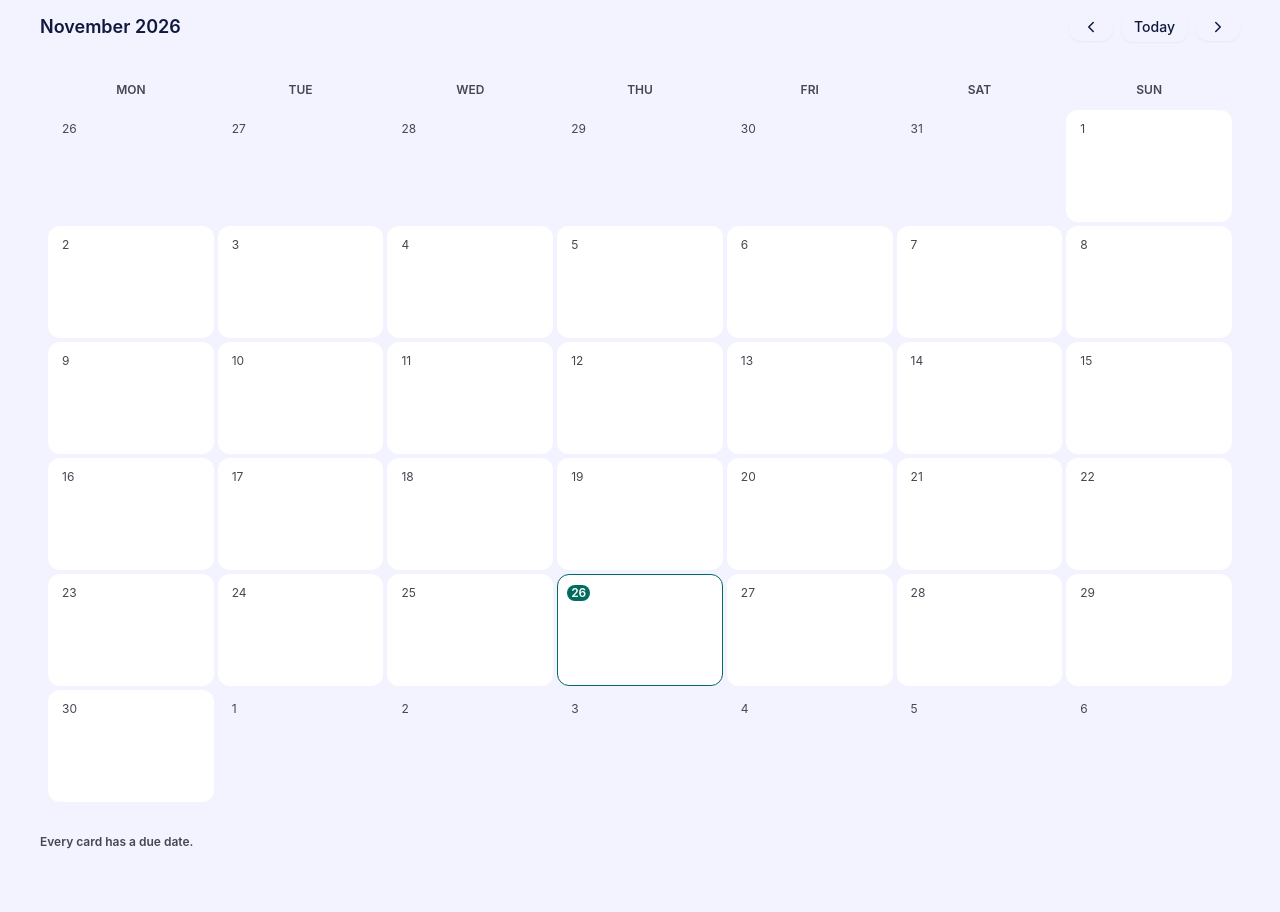
it: Calendar view (VIEW-03, VIEW-04) › moves between months and back to today
The image size is (1280, 912).
Click the button named "Next month": point(1218, 27) [1196,13,1240,41]
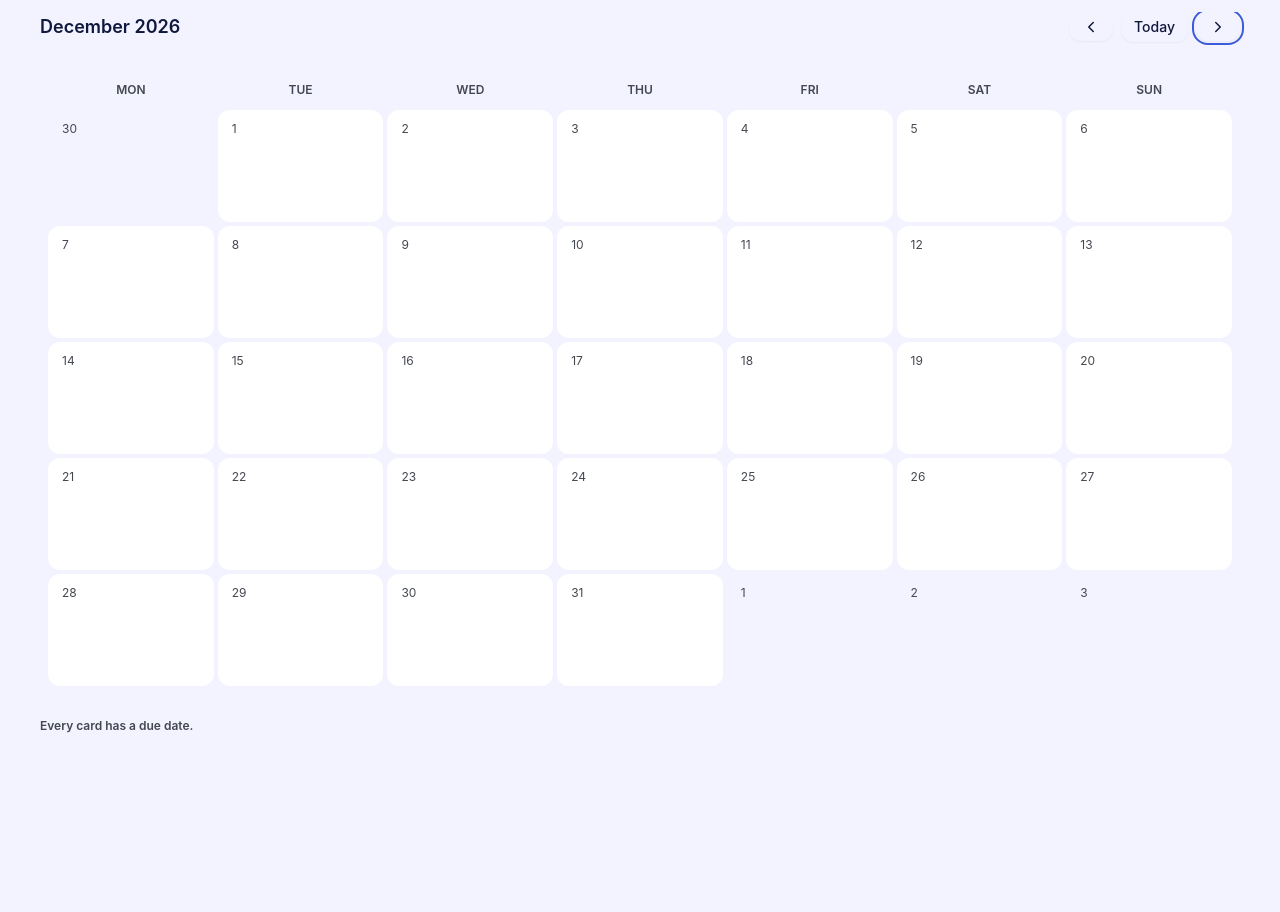
Expected: the heading "December 2026" is shown, [40,15,180,39]
Click the button named "Previous month": point(1091, 27) [1069,13,1113,41]
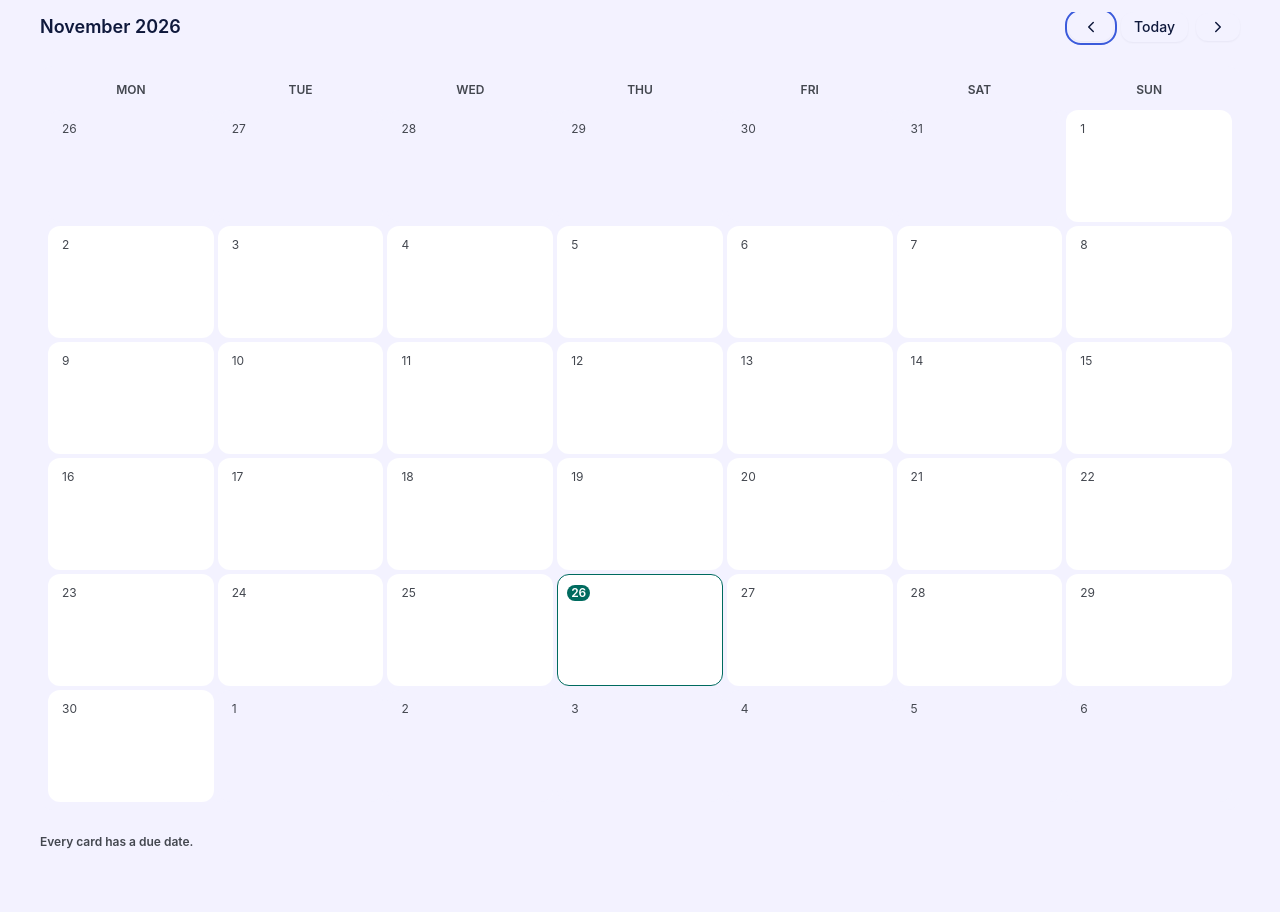
Click the button named "Previous month": point(1091, 27) [1069,13,1113,41]
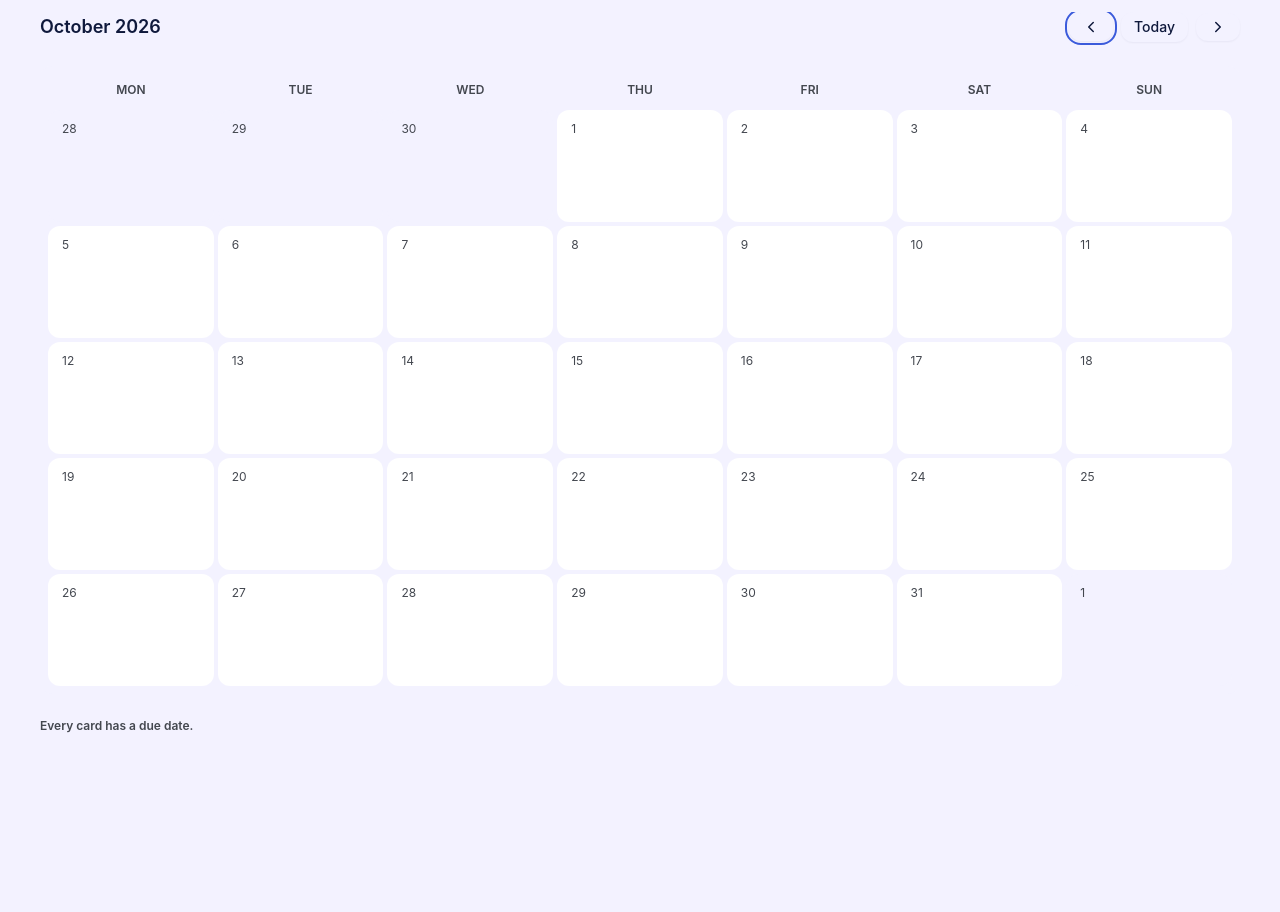
Expected: the heading "October 2026" is shown, [40,15,161,39]
Click the button "Today": point(1154, 27) [1121,12,1188,42]
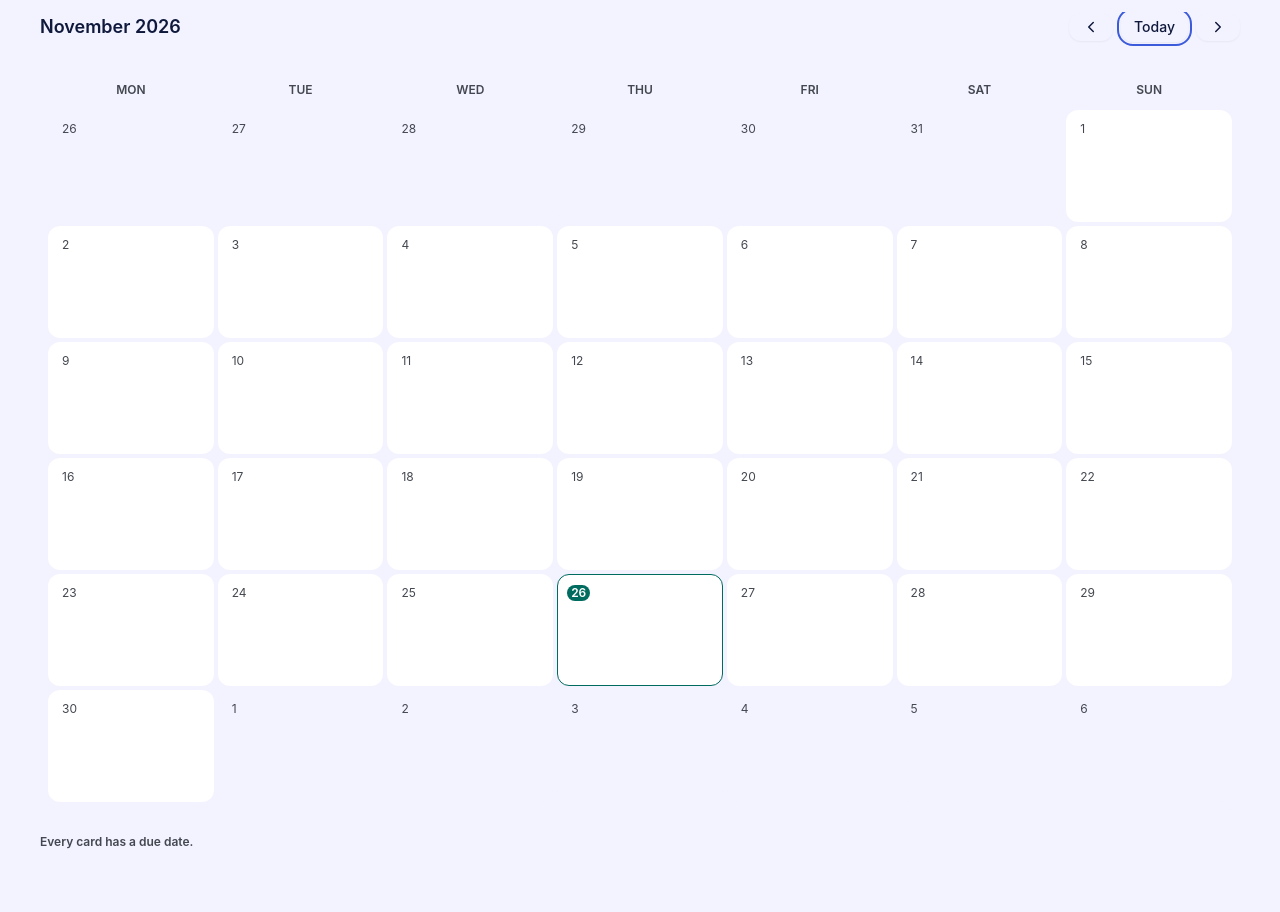
Expected: the heading "November 2026" is shown, [40,15,181,39]
